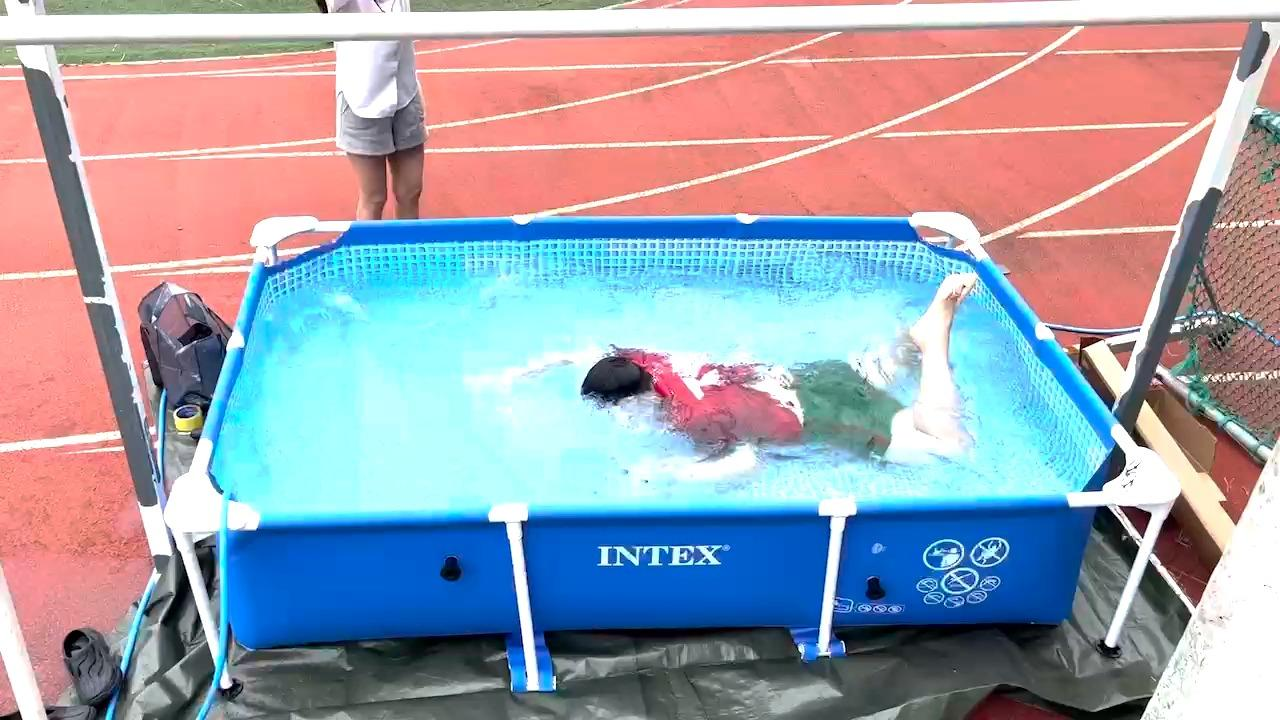Drowning: (462, 256, 1012, 491)
Person-out-of-water: (296, 0, 436, 246)
